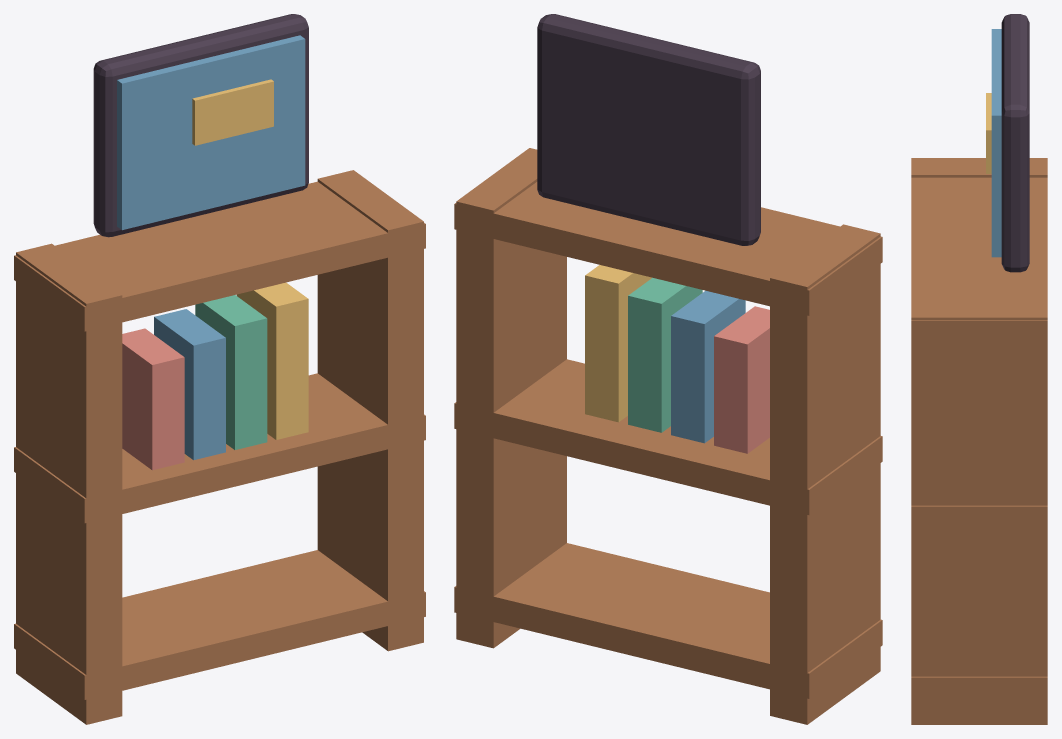
File: prop_dekorasi_lv2.fbx
3 views of the same model, side by side, from view 1: azimuth 30°, elevation 25°; view 2: azimuth 150°, elevation 25°; view 3: azimuth 270°, elevation 25° (orthographic). The views are drawn at different scales.
Parts seen in each view (by area): view 1: prop_dekorasi_lv2; view 2: prop_dekorasi_lv2; view 3: prop_dekorasi_lv2.
Boxes of the visible parts, box(x1,y1,x2,y2) form: prop_dekorasi_lv2: box(14, 14, 425, 724); prop_dekorasi_lv2: box(454, 14, 882, 724); prop_dekorasi_lv2: box(911, 14, 1047, 724).
Bounding box in the file's own units: 95 × 161 × 34.
1 material, 1 textured.
